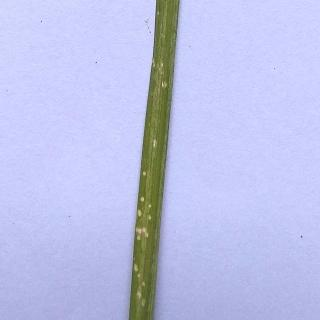Blast: (133, 184, 155, 310), (156, 57, 172, 99), (150, 124, 166, 158), (140, 166, 152, 182)
